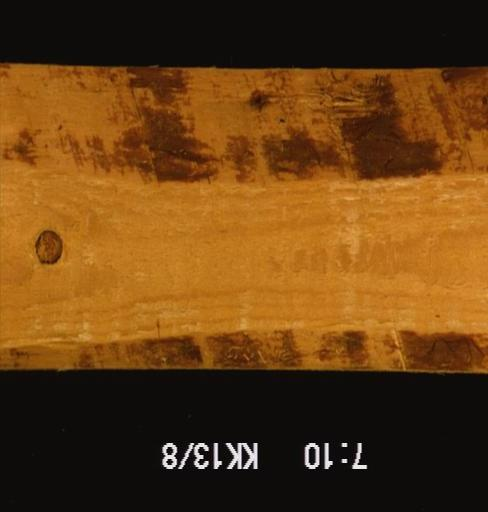dry_knot: (33, 229, 65, 266)
wave: (0, 68, 486, 183), (1, 327, 486, 369)
